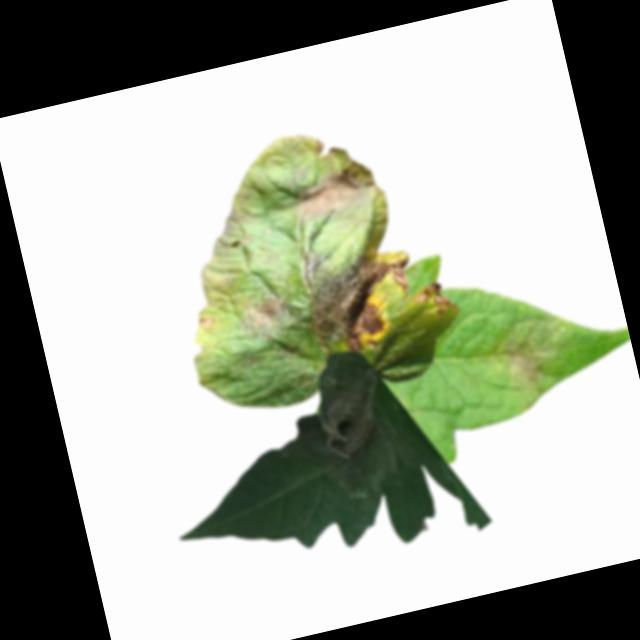Late_blight: (298, 226, 420, 361), (289, 157, 381, 226), (315, 384, 389, 463), (200, 203, 263, 261), (500, 326, 557, 390), (238, 289, 300, 340), (410, 280, 458, 321), (198, 312, 219, 330)
